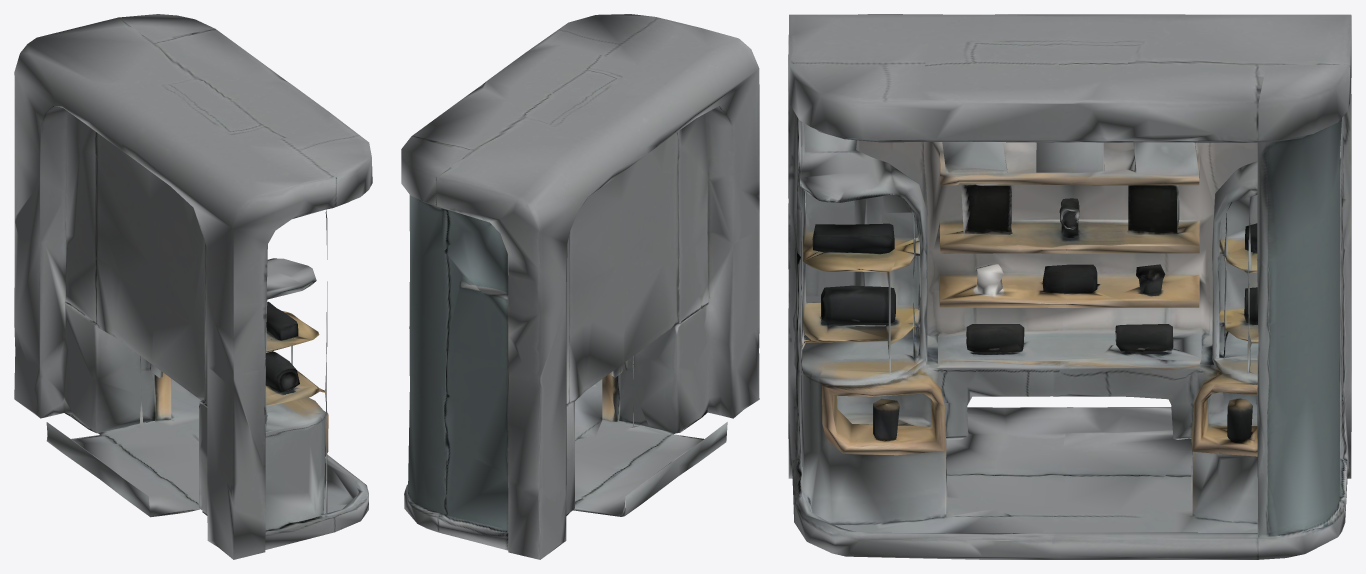
The model's file is frontclw_lod1.glb.
The picture shows the model from 3 angles, left to right: view 1: azimuth 30°, elevation 25°; view 2: azimuth 150°, elevation 25°; view 3: azimuth 270°, elevation 25°; orthographic projection. The views are drawn at different scales.
Parts seen in each view (by area): view 1: tripo_node_e9c7b41d-e00e-47ac-931f-928e804d7f1a; view 2: tripo_node_e9c7b41d-e00e-47ac-931f-928e804d7f1a; view 3: tripo_node_e9c7b41d-e00e-47ac-931f-928e804d7f1a.
Part boxes in pixels (box(x1,y1,x2,y2)): tripo_node_e9c7b41d-e00e-47ac-931f-928e804d7f1a: box(14, 14, 372, 559); tripo_node_e9c7b41d-e00e-47ac-931f-928e804d7f1a: box(401, 14, 759, 559); tripo_node_e9c7b41d-e00e-47ac-931f-928e804d7f1a: box(788, 14, 1351, 559).
Bounding box in the file's own units: 1.01 × 1.8 × 2.
Materials: 1 (1 with a texture image).
